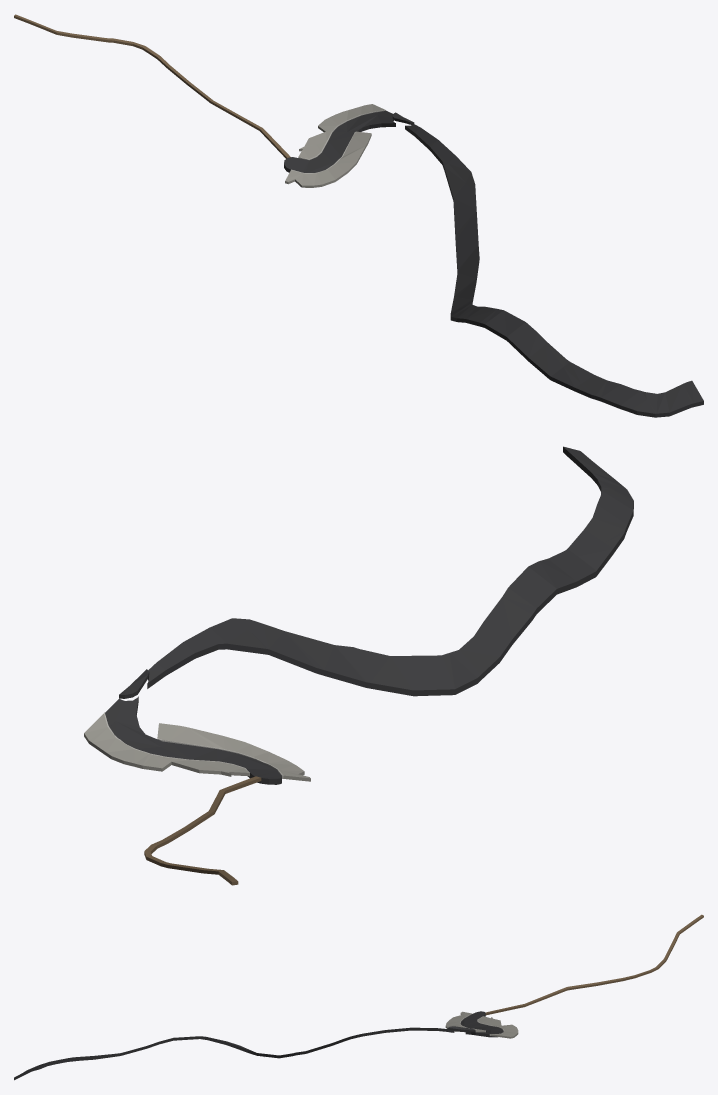
Rendered from 15-27356-14878.f1dfb79a.glb.
3 renders of one model, top to bottom at view 1: azimuth 30°, elevation 25°; view 2: azimuth 150°, elevation 25°; view 3: azimuth 270°, elevation 25°, orthographic. The views are drawn at different scales.
Bounding box in the file's own units: 75.44 × 38.79 × 261.
